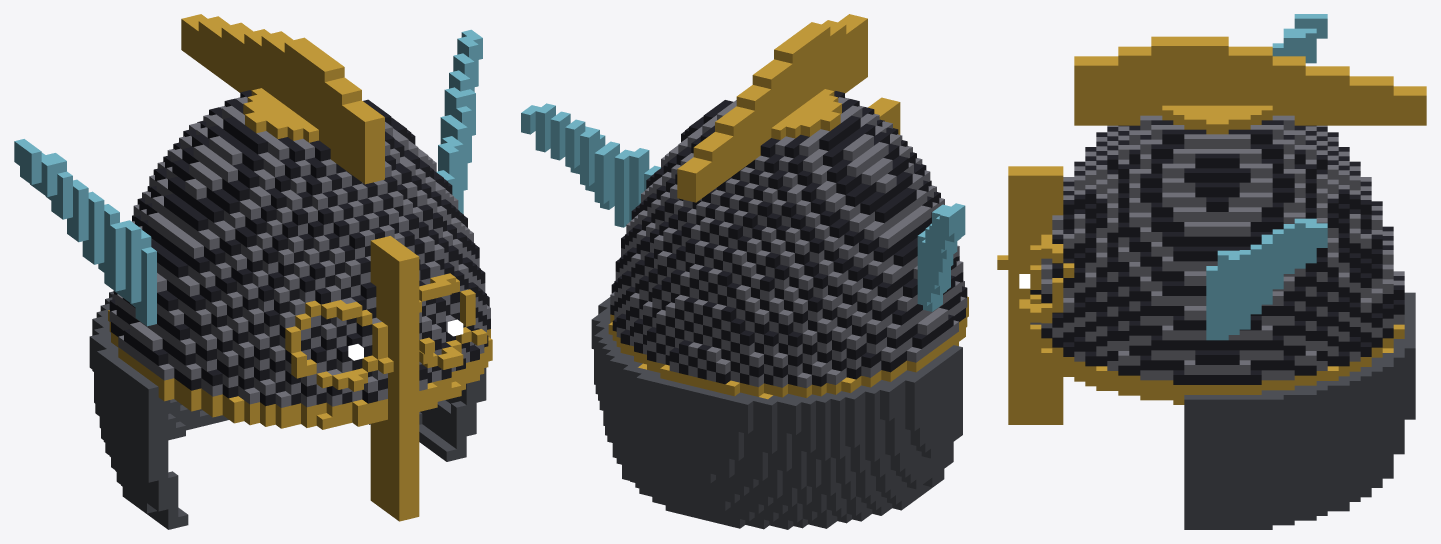
File: chain_epic_helmet.glb
3 views of the same model, side by side, from view 1: azimuth 30°, elevation 25°; view 2: azimuth 150°, elevation 25°; view 3: azimuth 270°, elevation 25° (orthographic). The views are drawn at different scales.
Parts seen in each view (by area): view 1: chain_epic_helmet; view 2: chain_epic_helmet; view 3: chain_epic_helmet.
Boxes of the visible parts, x1,y1,x2,y2 form: chain_epic_helmet: [14, 14, 492, 529]; chain_epic_helmet: [521, 14, 968, 529]; chain_epic_helmet: [997, 14, 1426, 529].
Bounding box in the file's own units: 0.552 × 0.504 × 0.468.
